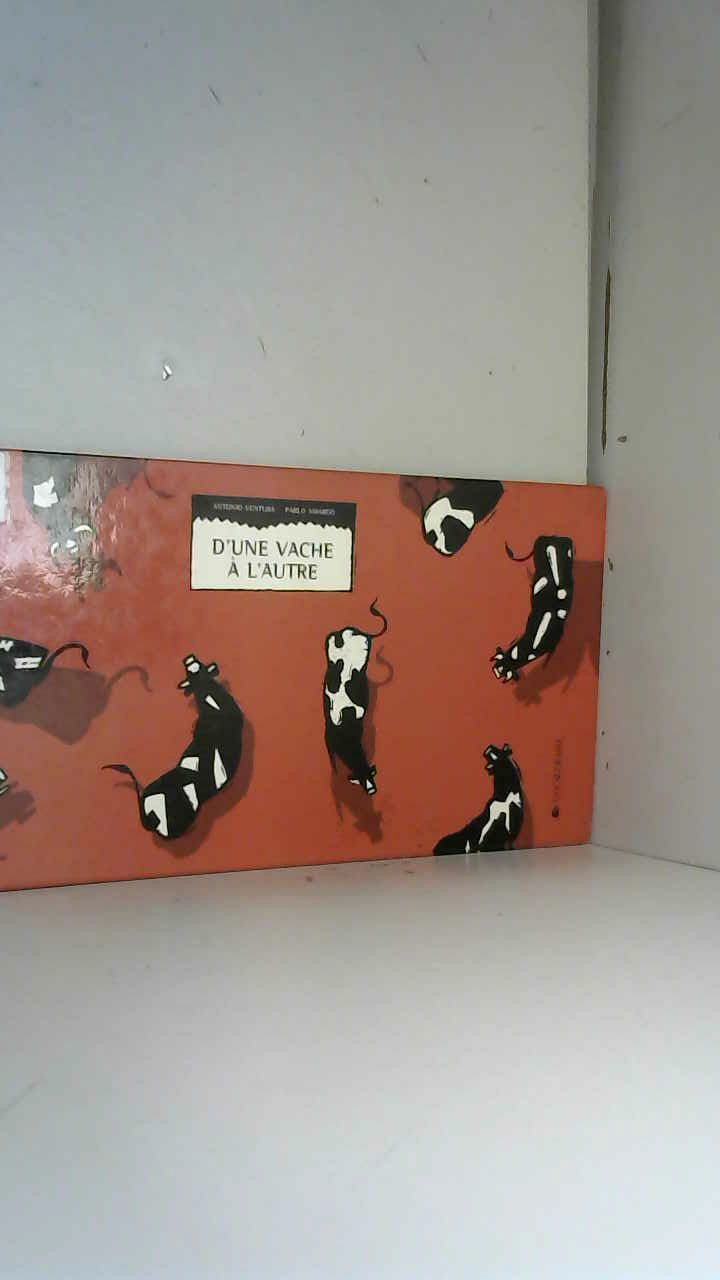book: (0, 412, 604, 917)
